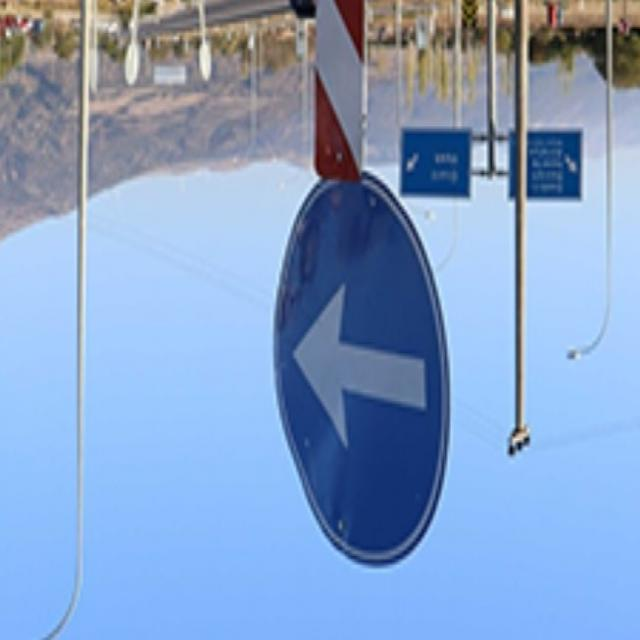Turn Left: (281, 171, 452, 570)
